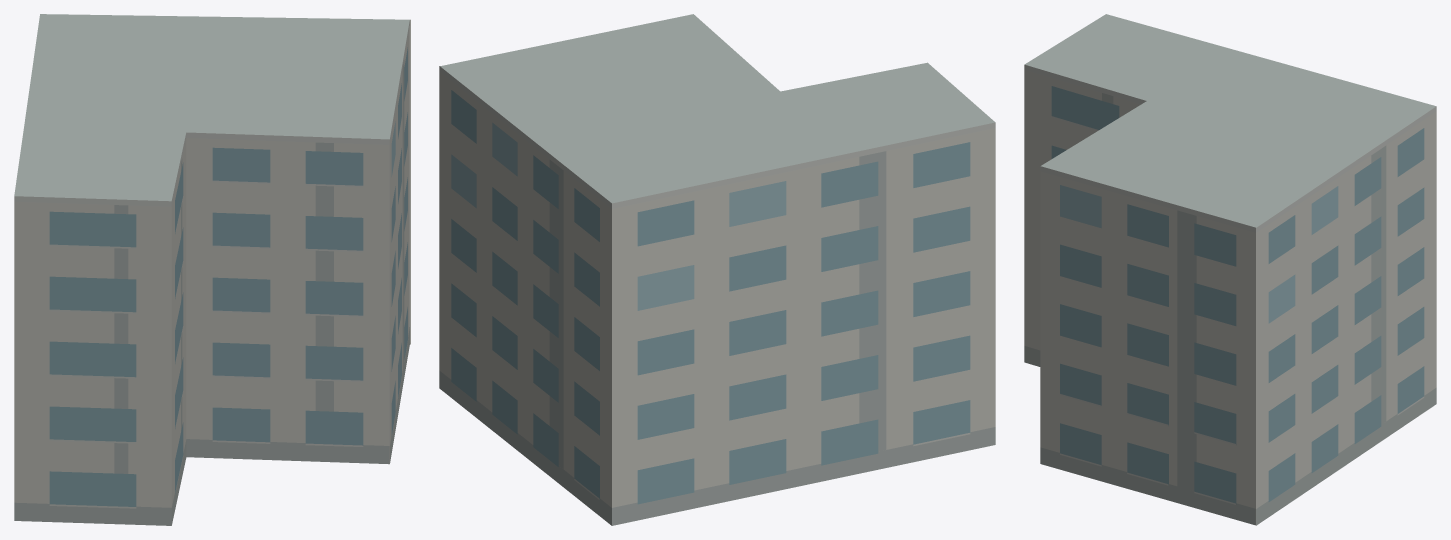
The model's file is survey-upis-32897042.glb.
The picture shows the model from 3 angles, left to right: view 1: azimuth 30°, elevation 25°; view 2: azimuth 150°, elevation 25°; view 3: azimuth 270°, elevation 25°; orthographic projection. The views are drawn at different scales.
Visible parts, largest first — view 1: survey-upis-32897042.tmp; view 2: survey-upis-32897042.tmp; view 3: survey-upis-32897042.tmp.
Boxes of the visible parts, x1,y1,x2,y2 form: survey-upis-32897042.tmp: (14, 14, 410, 525); survey-upis-32897042.tmp: (439, 14, 995, 525); survey-upis-32897042.tmp: (1024, 14, 1436, 525).
Size of the model in its own units: 21.68 by 14.06 by 17.65.
